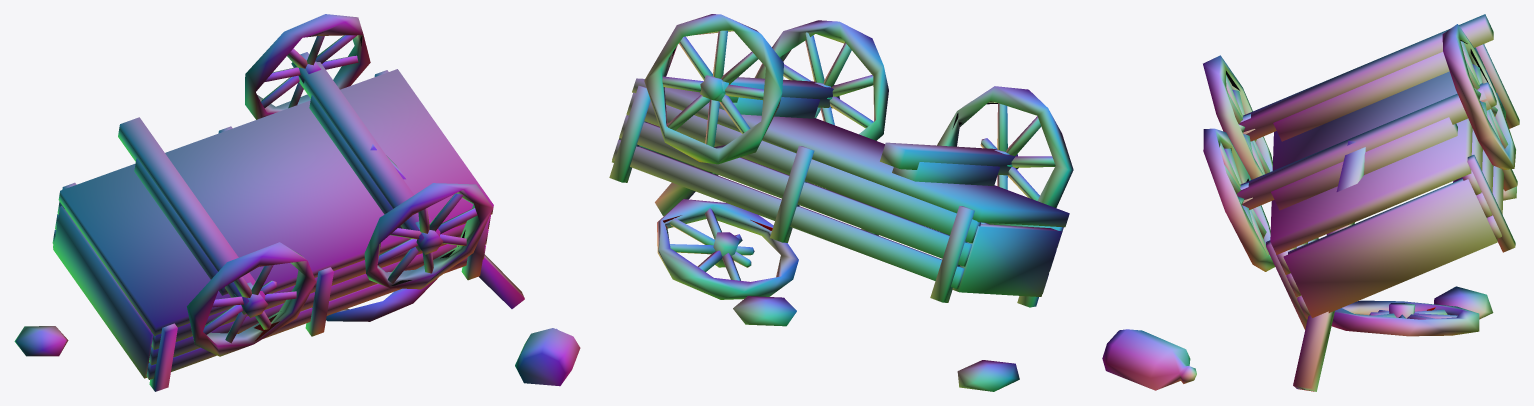
The model's file is SM_Prop_March_SheepfoldWagon_B_LOD1.fbx.
3 renders of one model, left to right at view 1: azimuth 30°, elevation 25°; view 2: azimuth 150°, elevation 25°; view 3: azimuth 270°, elevation 25°, orthographic. The views are drawn at different scales.
Visible parts, largest first — view 1: SM_Prop_March_SheepfoldWagon_B_LOD1; view 2: SM_Prop_March_SheepfoldWagon_B_LOD1; view 3: SM_Prop_March_SheepfoldWagon_B_LOD1.
Boxes of the visible parts, <box> form: SM_Prop_March_SheepfoldWagon_B_LOD1: <box>14,14,580,391</box>; SM_Prop_March_SheepfoldWagon_B_LOD1: <box>609,14,1073,391</box>; SM_Prop_March_SheepfoldWagon_B_LOD1: <box>1102,14,1519,391</box>.
Bounding box in the file's own units: 2.9 × 1.82 × 2.28.
